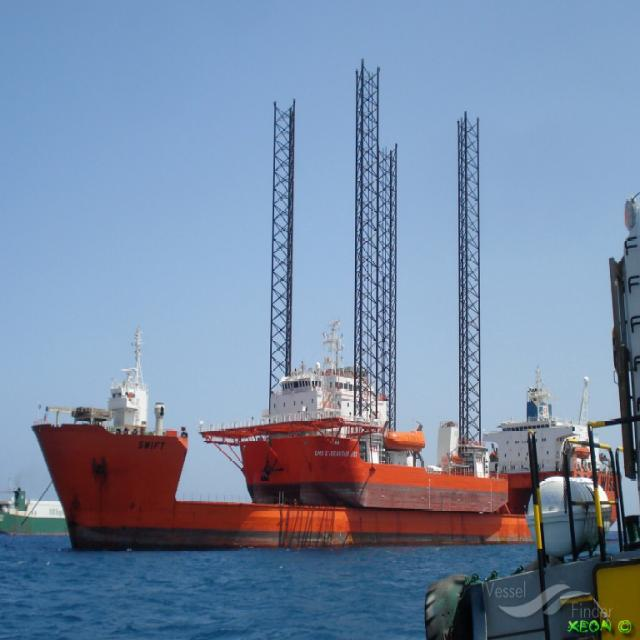OCR: (308, 441, 360, 460)
